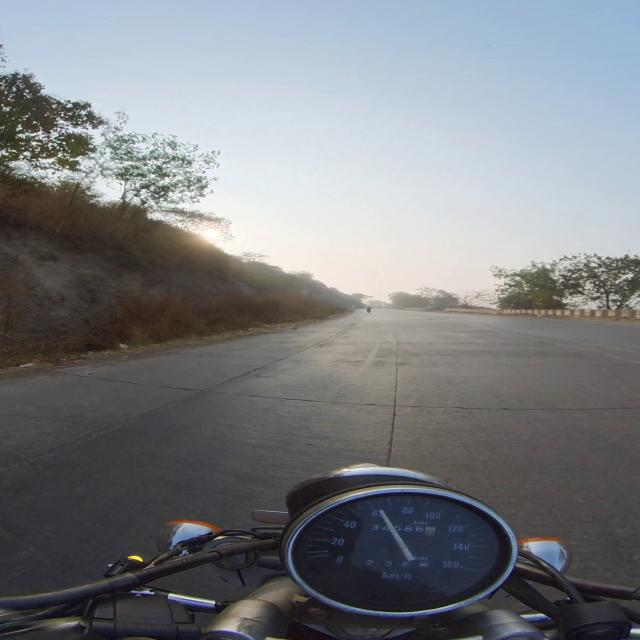motorcycle: (0, 465, 639, 639)
